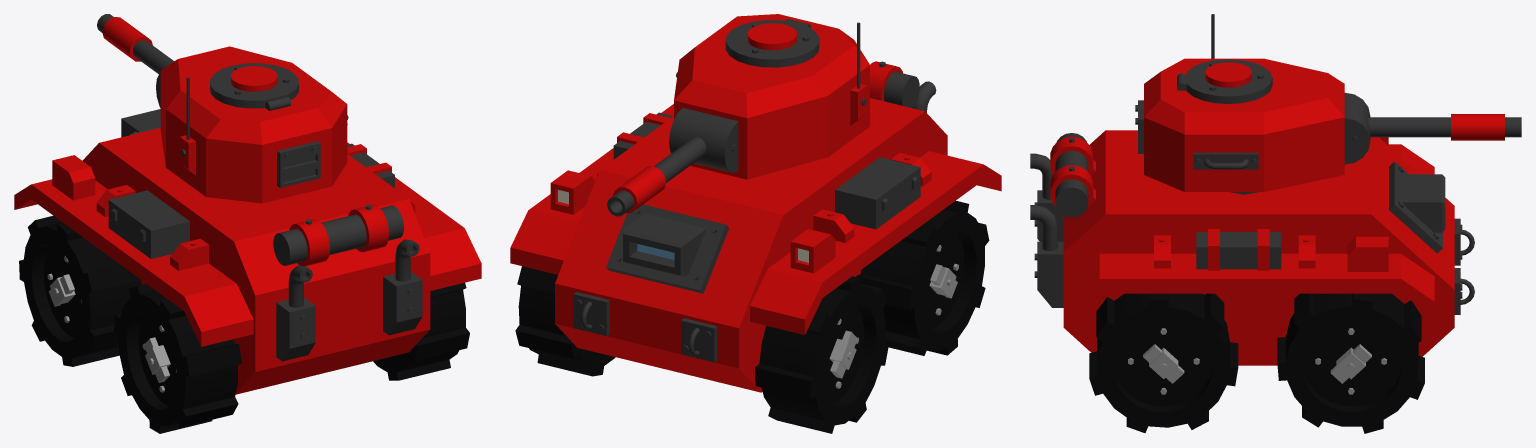
The model's file is Tank_A.fbx.
3 views of the same model, side by side, from view 1: azimuth 30°, elevation 25°; view 2: azimuth 150°, elevation 25°; view 3: azimuth 270°, elevation 25° (orthographic). The views are drawn at different scales.
Parts seen in each view (by area): view 1: Tank_A_Body, Tank_A_Tower, Tank_A_Wheel_R_L, Tank_A_Wheel_F_L, Tank_A_Wheel_R_R; view 2: Tank_A_Body, Tank_A_Tower, Tank_A_Wheel_F_L, Tank_A_Wheel_R_L, Tank_A_Wheel_F_R; view 3: Tank_A_Body, Tank_A_Tower, Tank_A_Wheel_R_R, Tank_A_Wheel_F_R.
Boxes of the visible parts, x1=… form: Tank_A_Body: x1=14, y1=109, x2=481, y2=394; Tank_A_Tower: x1=97, y1=14, x2=348, y2=203; Tank_A_Wheel_R_L: x1=114, y1=284, x2=241, y2=433; Tank_A_Wheel_F_L: x1=19, y1=215, x2=141, y2=366; Tank_A_Wheel_R_R: x1=373, y1=282, x2=469, y2=380; Tank_A_Body: x1=510, y1=61, x2=1001, y2=392; Tank_A_Tower: x1=607, y1=14, x2=869, y2=216; Tank_A_Wheel_F_L: x1=755, y1=276, x2=888, y2=433; Tank_A_Wheel_R_L: x1=856, y1=200, x2=989, y2=355; Tank_A_Wheel_F_R: x1=515, y1=266, x2=615, y2=376; Tank_A_Body: x1=1030, y1=130, x2=1474, y2=365; Tank_A_Tower: x1=1135, y1=14, x2=1521, y2=194; Tank_A_Wheel_R_R: x1=1089, y1=293, x2=1238, y2=432; Tank_A_Wheel_F_R: x1=1277, y1=293, x2=1424, y2=433.
Size of the model in its own units: 74.12 by 79.68 by 113.
